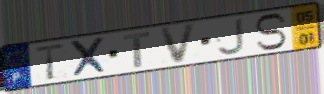J: (216, 16, 247, 57)
S: (253, 12, 289, 52)
T: (34, 41, 68, 82), (121, 30, 153, 70)
V: (159, 21, 200, 66)
X: (67, 35, 111, 79)
